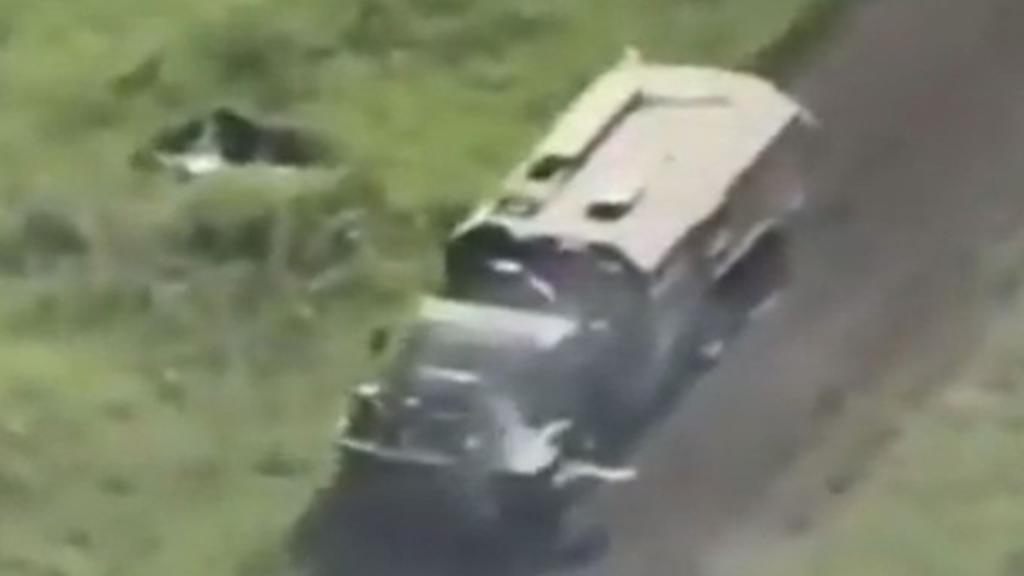TRUCK: (326, 38, 818, 536)
